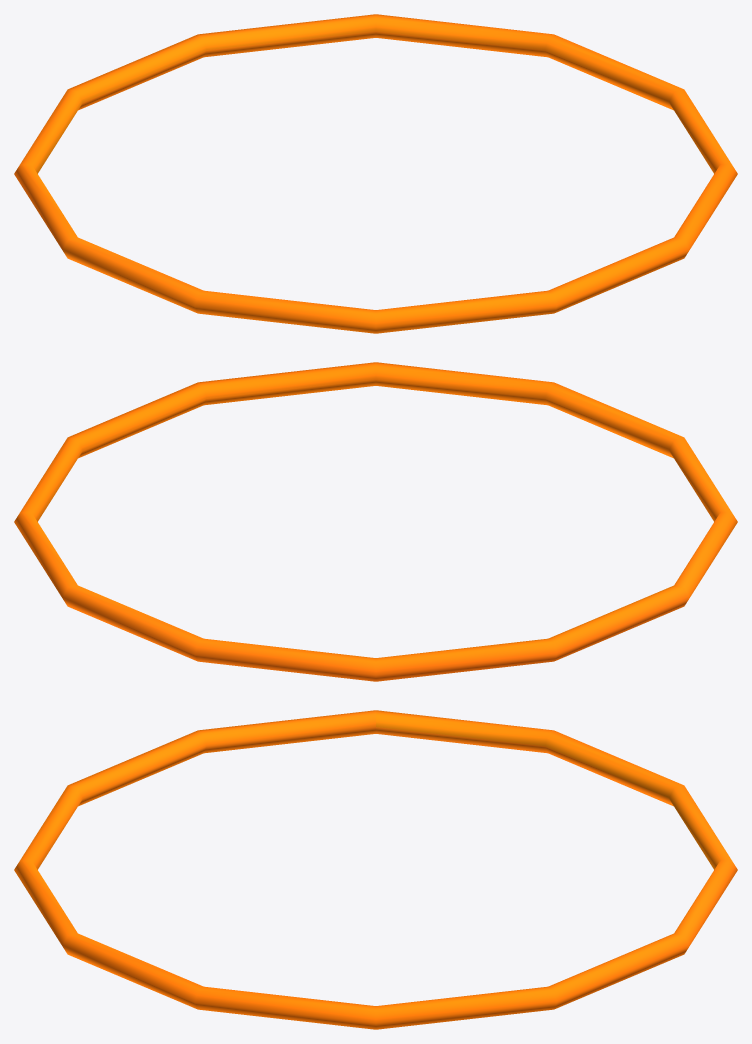
The model's file is HulaHoopOrange.glb.
3 views of the same model, one above another, from view 1: azimuth 30°, elevation 25°; view 2: azimuth 150°, elevation 25°; view 3: azimuth 270°, elevation 25° (orthographic).
Parts seen in each view (by area): view 1: HulaHoopOrange; view 2: HulaHoopOrange; view 3: HulaHoopOrange.
Part boxes in pixels (x1,y1,x2,y2): HulaHoopOrange: (14, 14, 737, 333); HulaHoopOrange: (14, 362, 737, 681); HulaHoopOrange: (14, 710, 737, 1029).
Bounding box in the file's own units: 1.04 × 0.0296 × 1.04.
1 material, 1 textured.
